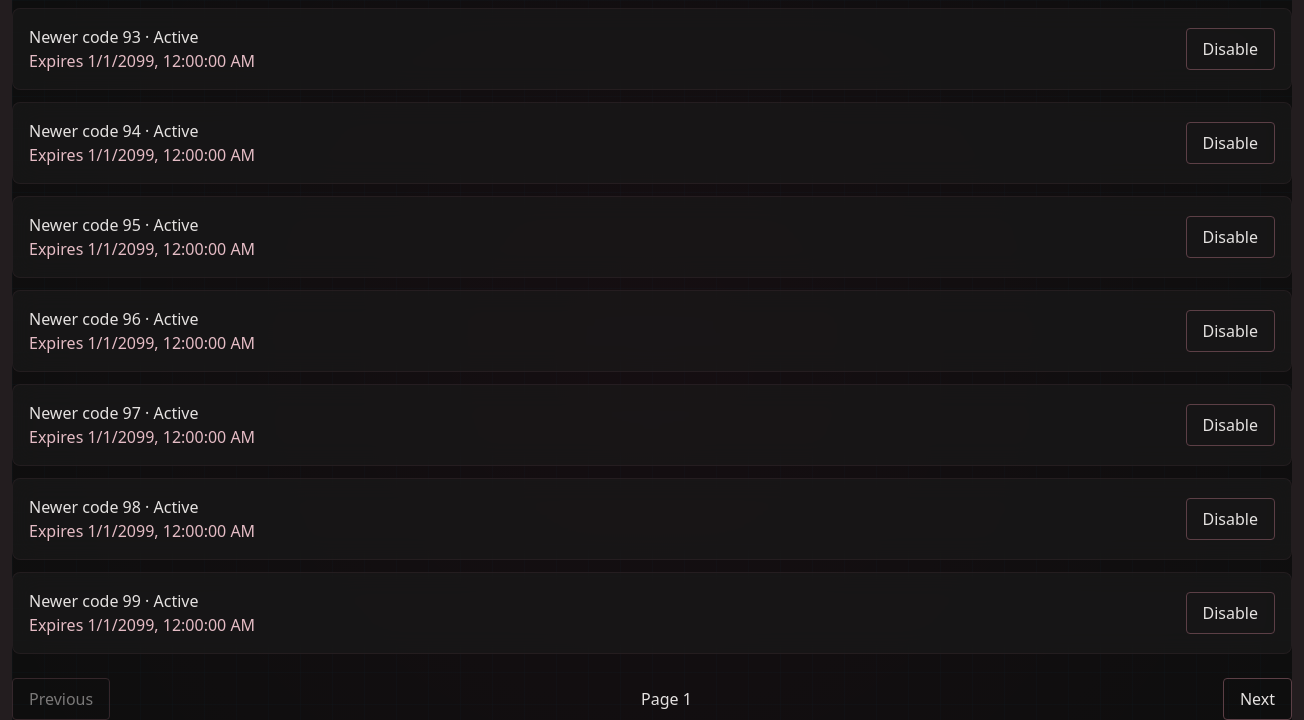
Test: admin signup code pagination › navigates past 100 newer codes, disables an older active code, and returns to page 1
(page scrolled)
Expected: the button "Previous" is disabled, top-left (12, 678), bottom-right (110, 719)
What coordinates should you click on to do the following:
click the button "Next"
I would click on:
 (1257, 699)
Its box is top-left (1223, 678), bottom-right (1292, 719).
(page scrolled)
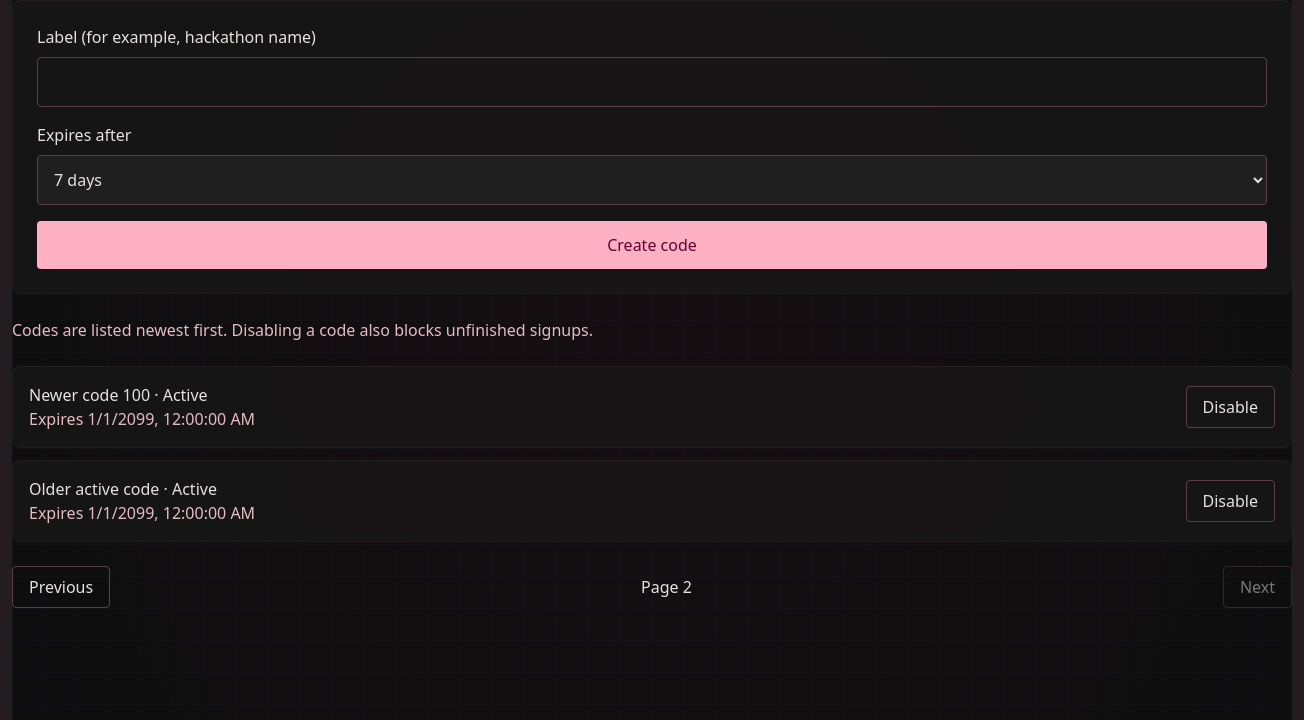
Result: the text "Older active code · Active" is shown at top-left (29, 478), bottom-right (217, 500)
Result: the text "Page 2" is shown at top-left (641, 575), bottom-right (692, 599)
Result: the button "Next" is disabled at top-left (1223, 566), bottom-right (1292, 608)
What coordinates should you click on to do the following:
click the button "Disable" in the row of "Older active code"
I would click on:
 (1230, 501)
Its box is top-left (1186, 480), bottom-right (1275, 522).
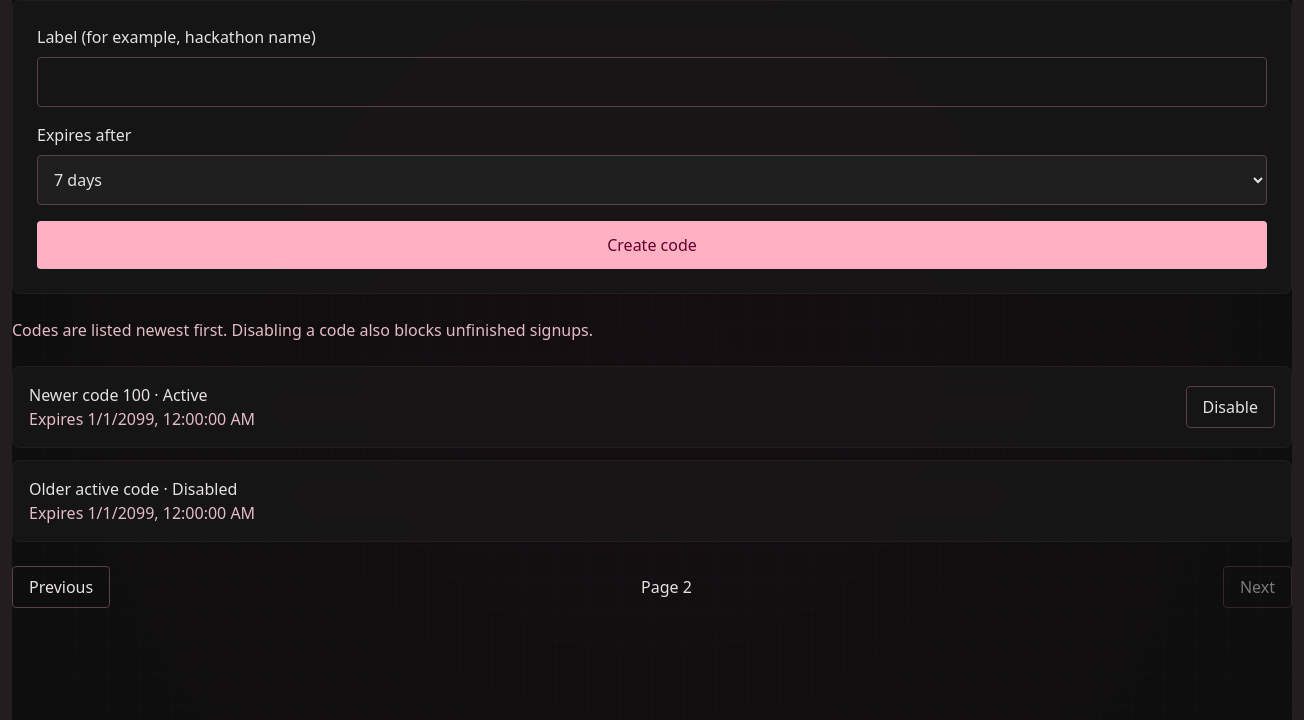
Result: the text "Older active code · Disabled" is shown at top-left (29, 477), bottom-right (255, 501)
What coordinates should you click on to do the following:
click the button "Previous"
I would click on:
 (61, 587)
Its box is top-left (12, 566), bottom-right (110, 608).
(page scrolled)
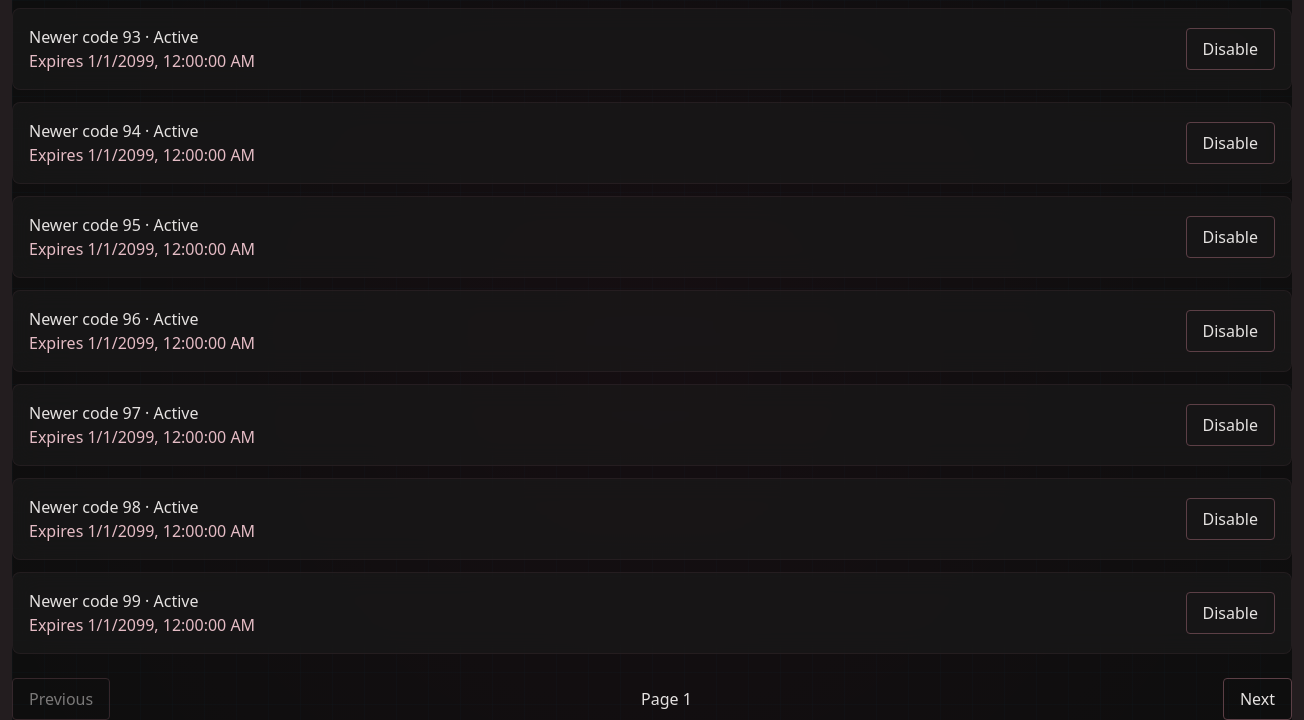
Result: the text "Page 1" is shown at top-left (641, 687), bottom-right (692, 711)
